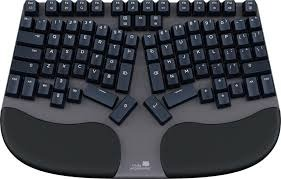keyboard: (5, 0, 281, 124)
